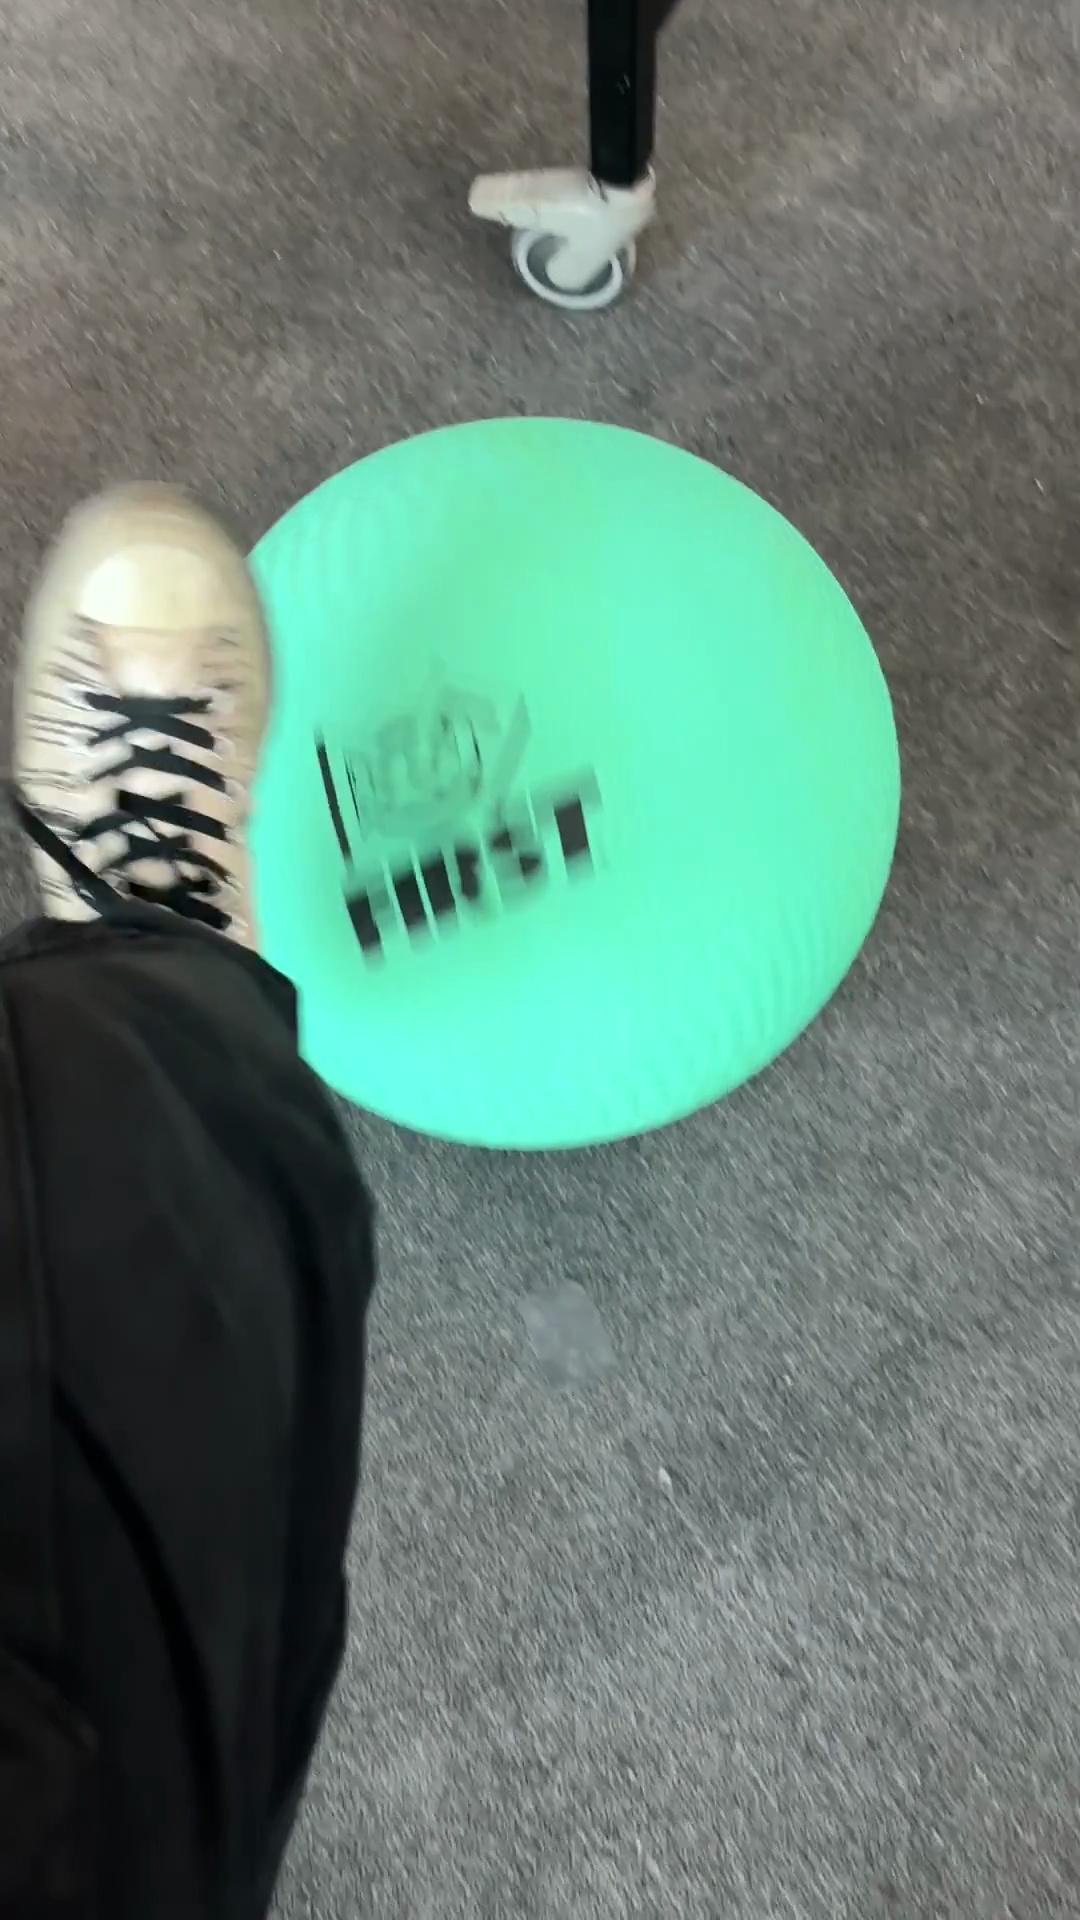ALGAE: (239, 412, 903, 1153)
